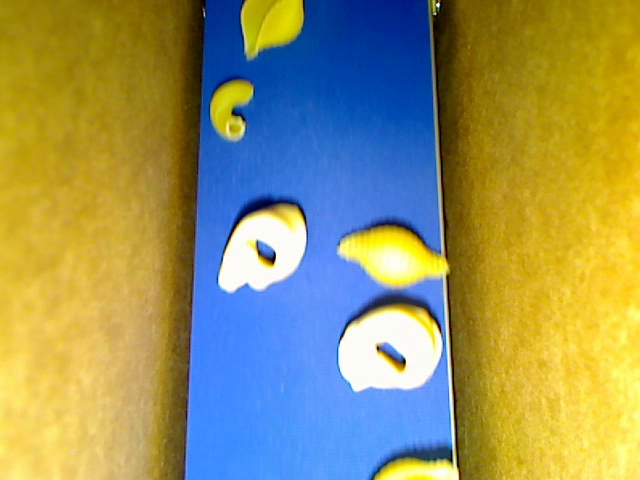elbow: (209, 78, 253, 141)
shell: (337, 224, 449, 288), (241, 1, 303, 61), (372, 456, 459, 479)
tortellini: (338, 304, 444, 392), (217, 201, 307, 293)
